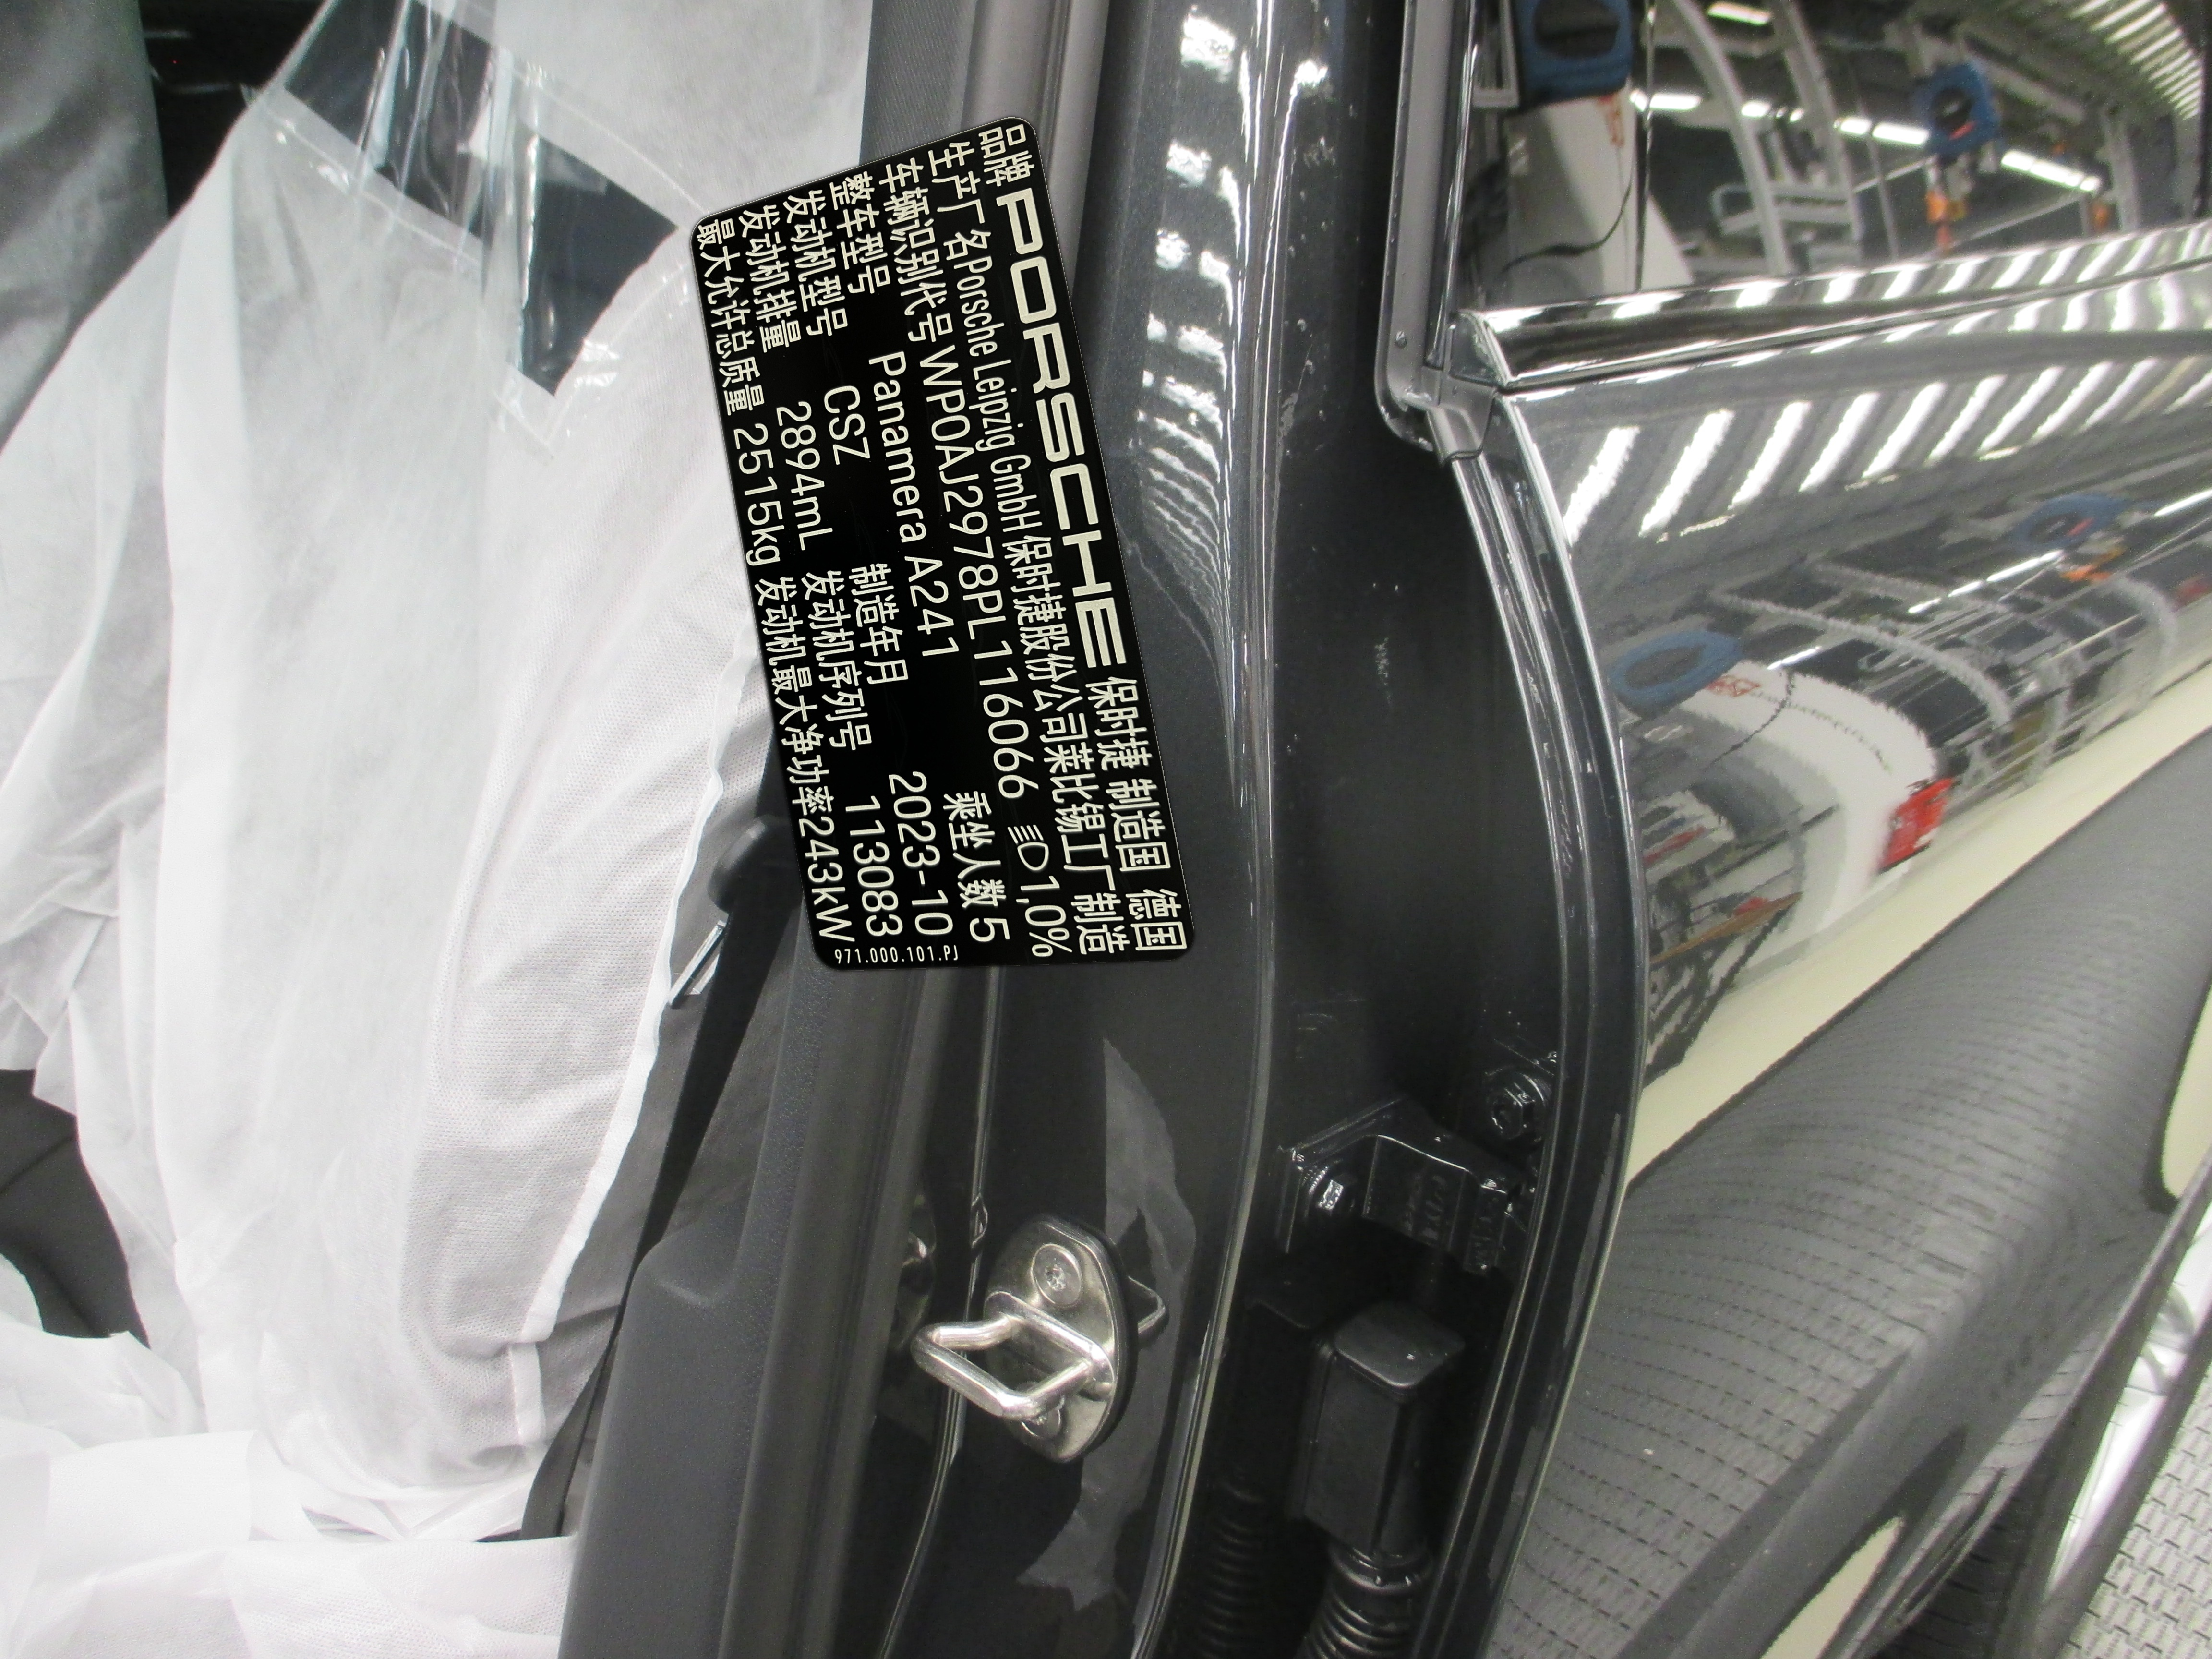Typlabel-China: (690, 117, 1193, 971)
